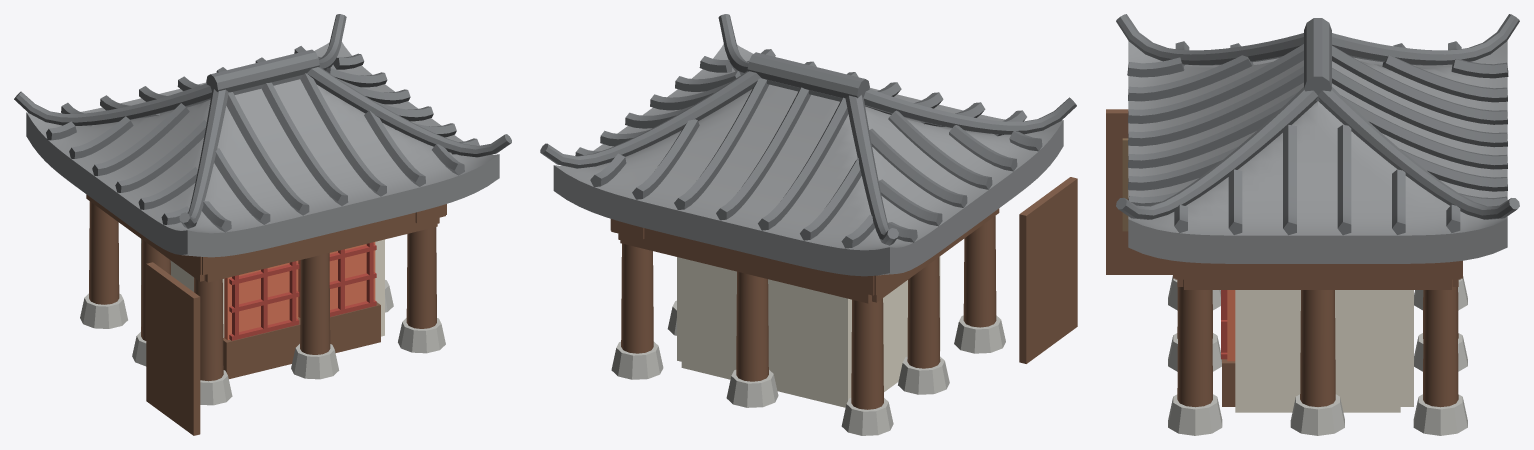
The model's file is SonMon_hunter.fbx.
3 views of the same model, side by side, from view 1: azimuth 30°, elevation 25°; view 2: azimuth 150°, elevation 25°; view 3: azimuth 270°, elevation 25° (orthographic). The views are drawn at different scales.
Parts seen in each view (by area): view 1: hunter; view 2: hunter; view 3: hunter.
Boxes of the visible parts, left/top/right/bottom form: hunter: left=14, top=14, right=511, bottom=435; hunter: left=540, top=14, right=1077, bottom=435; hunter: left=1106, top=14, right=1519, bottom=435.
Bounding box in the file's own units: 2.02 × 1.56 × 1.86.
